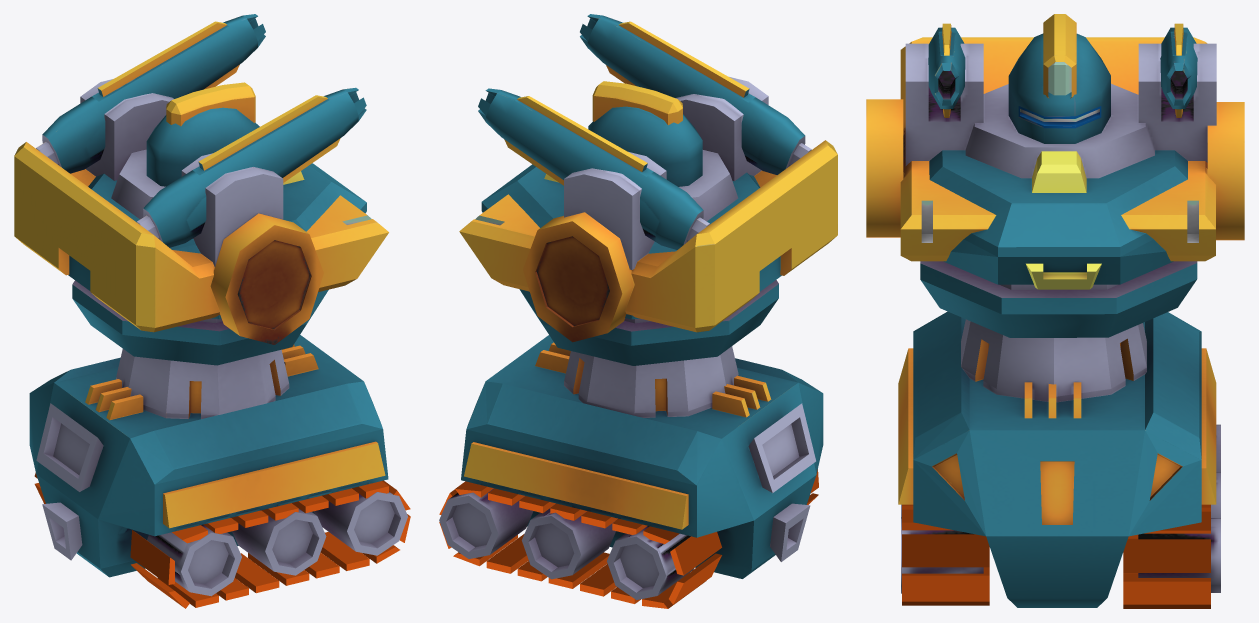
The model's file is Player_Idle15.obj.
3 renders of one model, left to right at view 1: azimuth 30°, elevation 25°; view 2: azimuth 150°, elevation 25°; view 3: azimuth 270°, elevation 25°, orthographic. The views are drawn at different scales.
Visible parts, largest first — view 1: Object004, Object008, Object014, Box009, Box017; view 2: Object004, Object008, Object014, Box009, Box016; view 3: Object004, Object008, Box016, Box017, Object014, Box009.
Boxes of the visible parts, x1=… form: Object004: x1=14, y1=79, x2=388, y2=365; Object008: x1=29, y1=335, x2=388, y2=577; Object014: x1=36, y1=14, x2=366, y2=247; Box009: x1=147, y1=491, x2=407, y2=596; Box017: x1=130, y1=480, x2=410, y2=608; Object004: x1=459, y1=77, x2=837, y2=365; Object008: x1=461, y1=335, x2=823, y2=578; Object014: x1=478, y1=14, x2=811, y2=249; Box009: x1=439, y1=488, x2=694, y2=599; Box016: x1=439, y1=481, x2=721, y2=608; Object004: x1=866, y1=14, x2=1244, y2=337; Object008: x1=898, y1=311, x2=1216, y2=607; Box016: x1=1123, y1=504, x2=1210, y2=608; Box017: x1=902, y1=504, x2=989, y2=605; Object014: x1=928, y1=23, x2=1197, y2=117; Box009: x1=901, y1=424, x2=1220, y2=593.
Size of the model in its own units: 54.79 by 81.79 by 52.49.
2 materials, 1 textured.
